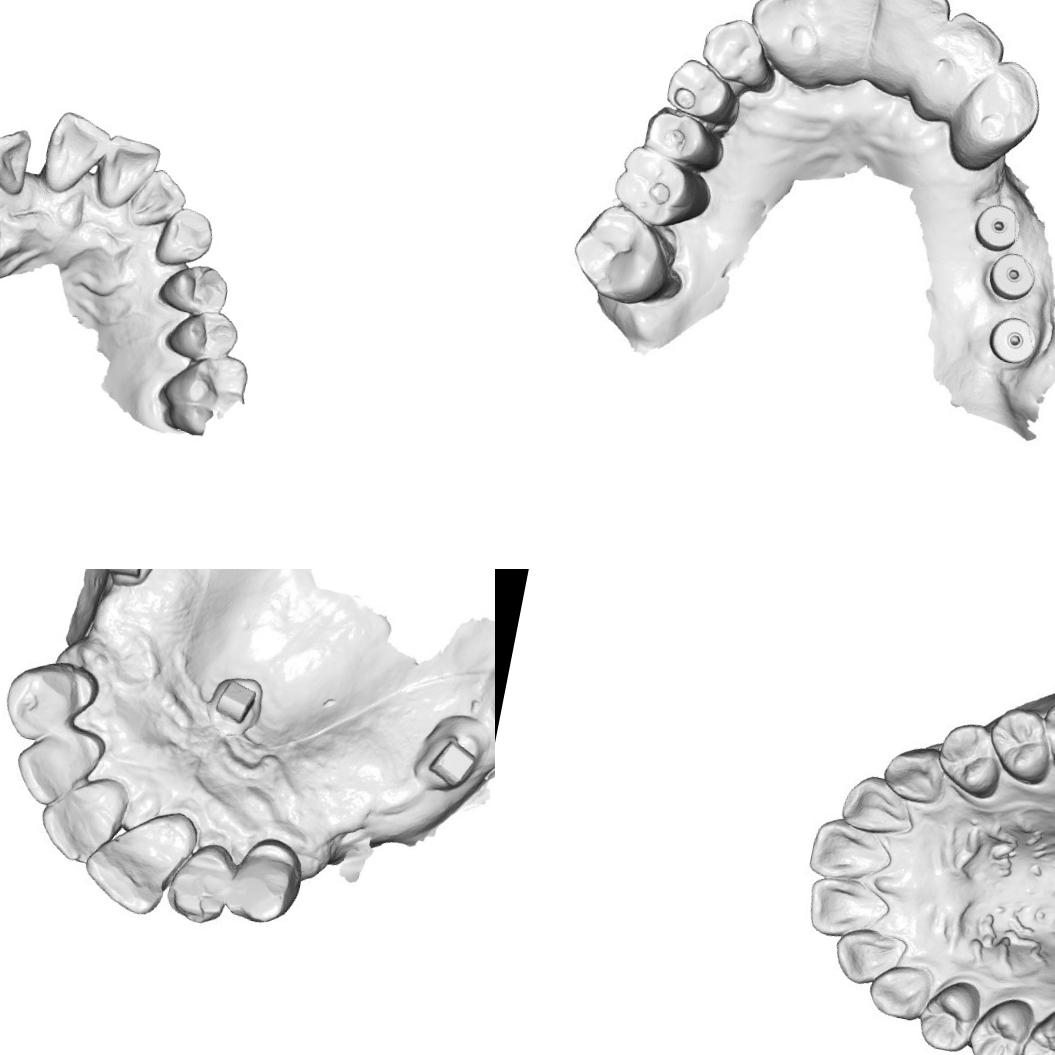canine: (217, 824, 314, 934), (0, 649, 99, 752), (692, 13, 786, 101), (965, 54, 1052, 145), (151, 202, 218, 274), (864, 959, 934, 1024), (885, 744, 949, 805)
implant: (980, 306, 1043, 371), (982, 248, 1046, 306), (970, 198, 1028, 256)
incisor: (80, 799, 197, 919), (30, 764, 132, 872), (6, 716, 111, 818), (916, 5, 1008, 120), (863, 0, 953, 100), (794, 0, 888, 93), (158, 833, 238, 929), (747, 0, 831, 91), (36, 108, 116, 202), (89, 130, 164, 216), (803, 872, 892, 937), (808, 822, 894, 889), (124, 162, 192, 236), (828, 926, 903, 992), (844, 780, 916, 844), (0, 121, 34, 197)
molar: (561, 197, 698, 316), (608, 143, 722, 233), (152, 343, 251, 443), (1033, 688, 1055, 786)
premolar: (655, 52, 749, 138), (640, 104, 732, 179), (165, 301, 243, 368), (935, 724, 1003, 796), (154, 258, 232, 320), (918, 978, 984, 1050), (961, 990, 1032, 1055), (991, 707, 1053, 778), (1015, 1003, 1055, 1055)
